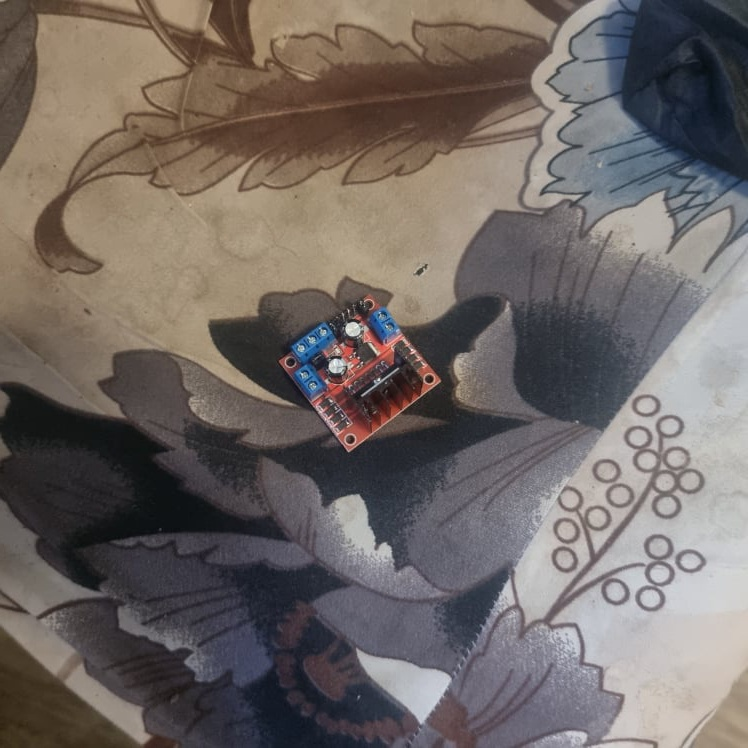MOTOR: (279, 297, 443, 453)
